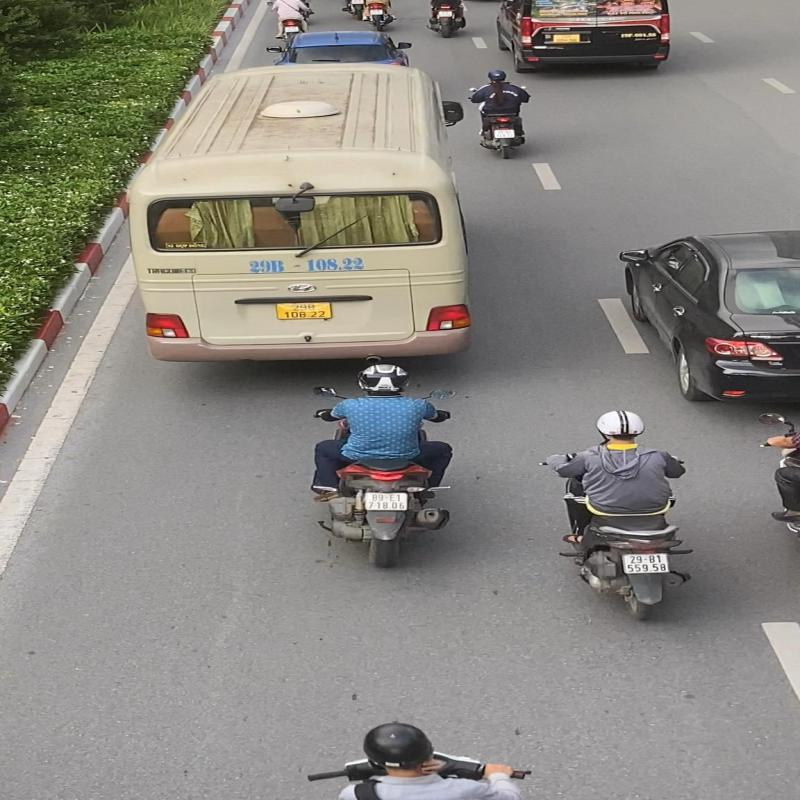helmet: (356, 364, 412, 393), (598, 410, 642, 438)
licenseplate: (620, 552, 672, 575), (362, 490, 410, 512)
motorcyclist: (534, 406, 706, 624), (306, 360, 462, 572)
